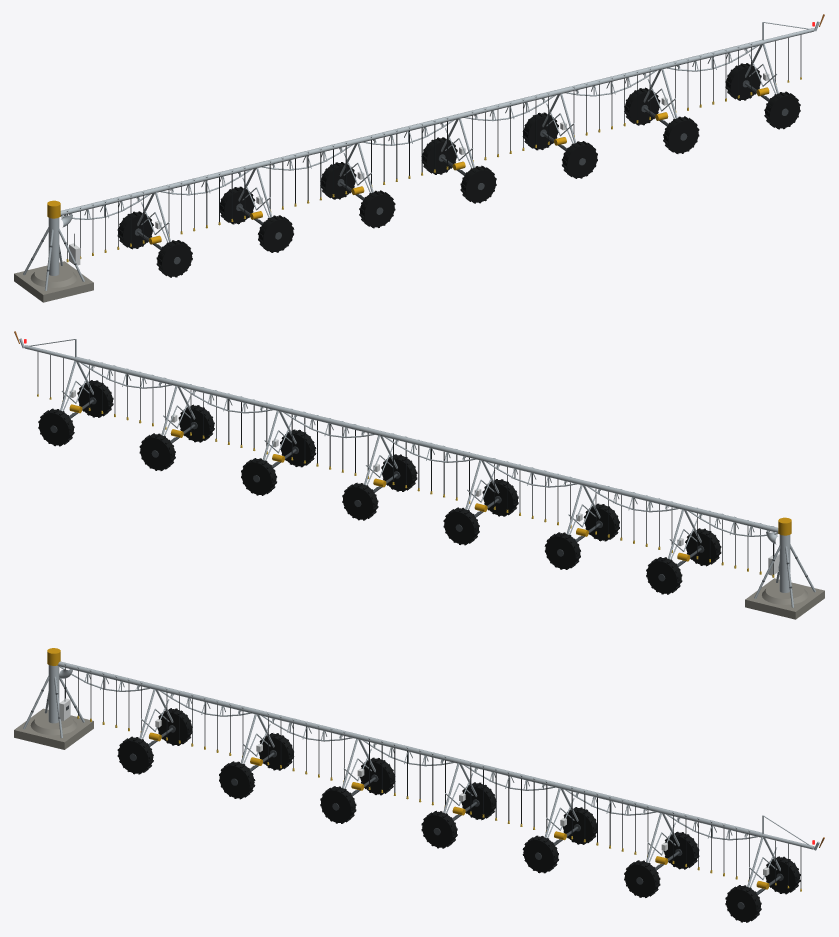
File: pivot-riego-7t.glb
3 views of the same model, one above another, from view 1: azimuth 30°, elevation 25°; view 2: azimuth 150°, elevation 25°; view 3: azimuth 330°, elevation 25° (orthographic).
Parts seen in each view (by area): view 1: wheel_right (×7), wheel_left (×7), central_pivot_point, span_3, span_2, span_4, span_6, span_7, span_5, span_1, tower_5, tower_3 (+5 smaller); view 2: wheel_left (×7), wheel_right (×7), central_pivot_point, span_5, span_4, span_6, span_2, span_3, span_7, span_1, tower_3, tower_5 (+5 smaller); view 3: wheel_right (×7), wheel_left (×7), central_pivot_point, span_5, span_4, span_6, span_2, span_3, span_7, span_1, tower_1, tower_2 (+6 smaller).
Part boxes in pixels (bbox=[...]): wheel_right (×7): bbox=[157, 92, 799, 276]; wheel_left (×7): bbox=[118, 64, 760, 248]; central_pivot_point: bbox=[14, 200, 93, 302]; span_3: bbox=[256, 138, 358, 211]; span_2: bbox=[155, 163, 257, 236]; span_4: bbox=[357, 114, 460, 187]; span_6: bbox=[560, 64, 662, 136]; span_7: bbox=[662, 40, 764, 112]; span_5: bbox=[458, 89, 561, 161]; span_1: bbox=[60, 188, 156, 262]; tower_5: bbox=[542, 93, 576, 151]; tower_3: bbox=[339, 143, 373, 200]; wheel_left (×7): bbox=[39, 409, 681, 593]; wheel_right (×7): bbox=[78, 381, 720, 565]; central_pivot_point: bbox=[745, 517, 824, 619]; span_5: bbox=[277, 406, 380, 478]; span_4: bbox=[378, 431, 481, 503]; span_6: bbox=[176, 381, 278, 454]; span_2: bbox=[581, 480, 683, 552]; span_3: bbox=[480, 455, 582, 528]; span_7: bbox=[74, 357, 176, 429]; span_1: bbox=[682, 505, 778, 577]; tower_3: bbox=[465, 460, 499, 517]; tower_5: bbox=[262, 410, 296, 468]; wheel_right (×7): bbox=[118, 737, 760, 921]; wheel_left (×7): bbox=[157, 709, 799, 893]; central_pivot_point: bbox=[14, 648, 93, 749]; span_5: bbox=[458, 759, 560, 832]; span_4: bbox=[356, 734, 458, 807]; span_6: bbox=[559, 783, 661, 856]; span_2: bbox=[154, 684, 256, 757]; span_3: bbox=[255, 709, 357, 781]; span_7: bbox=[660, 808, 762, 881]; span_1: bbox=[57, 661, 154, 732]; tower_1: bbox=[139, 689, 173, 746]; tower_2: bbox=[240, 714, 274, 771].
Size of the model in its own units: 37.73 by 4.14 by 3.64.
